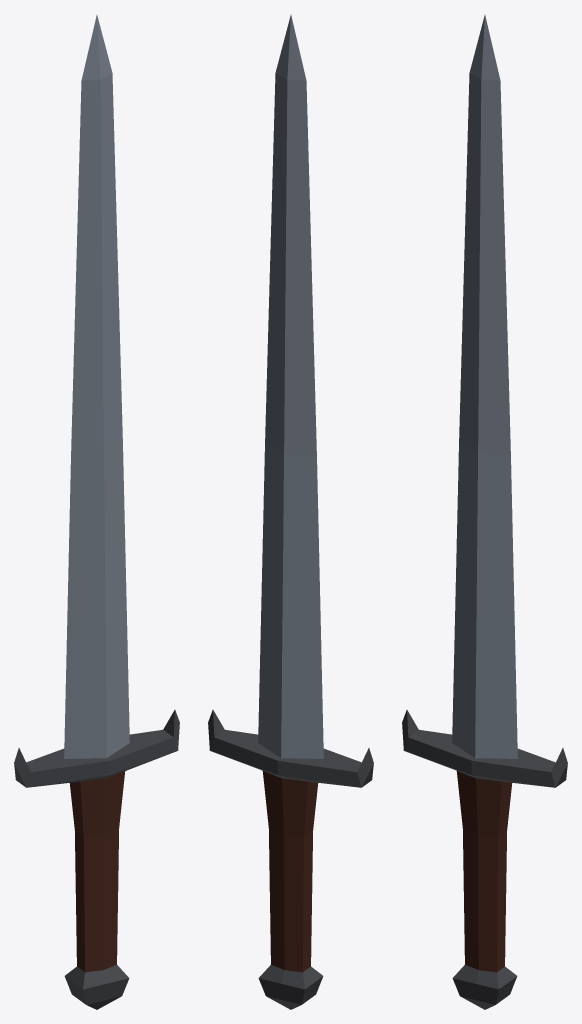
Rendered from Sword.glb.
3 renders of one model, left to right at view 1: azimuth 30°, elevation 25°; view 2: azimuth 150°, elevation 25°; view 3: azimuth 330°, elevation 25°, orthographic.
Visible parts, largest first — view 1: Sword; view 2: Sword; view 3: Sword.
Part boxes in pixels (box(x1,y1,x2,y2)): Sword: box(14, 15, 179, 1009); Sword: box(208, 15, 373, 1009); Sword: box(402, 15, 567, 1009).
Size of the model in its own units: 1.17 by 6.69 by 0.3228.
1 material, 1 textured.
